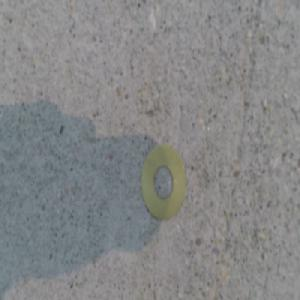Washer: (142, 141, 185, 219)
